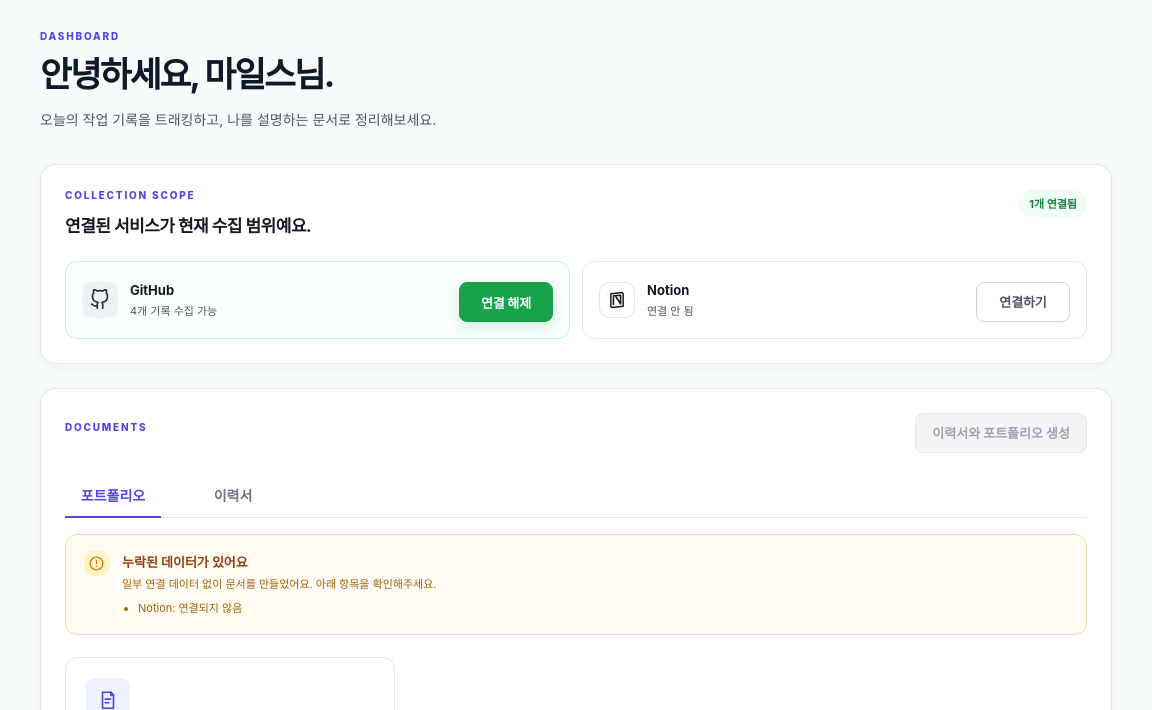
Test case: DashboardPage › 현재 탭이 비어 있어도 다른 유형이 있으면 그 탭을 안내한다
Click the tab "이력서": [233, 495] box left=185, top=473, right=281, bottom=517
(page scrolled)
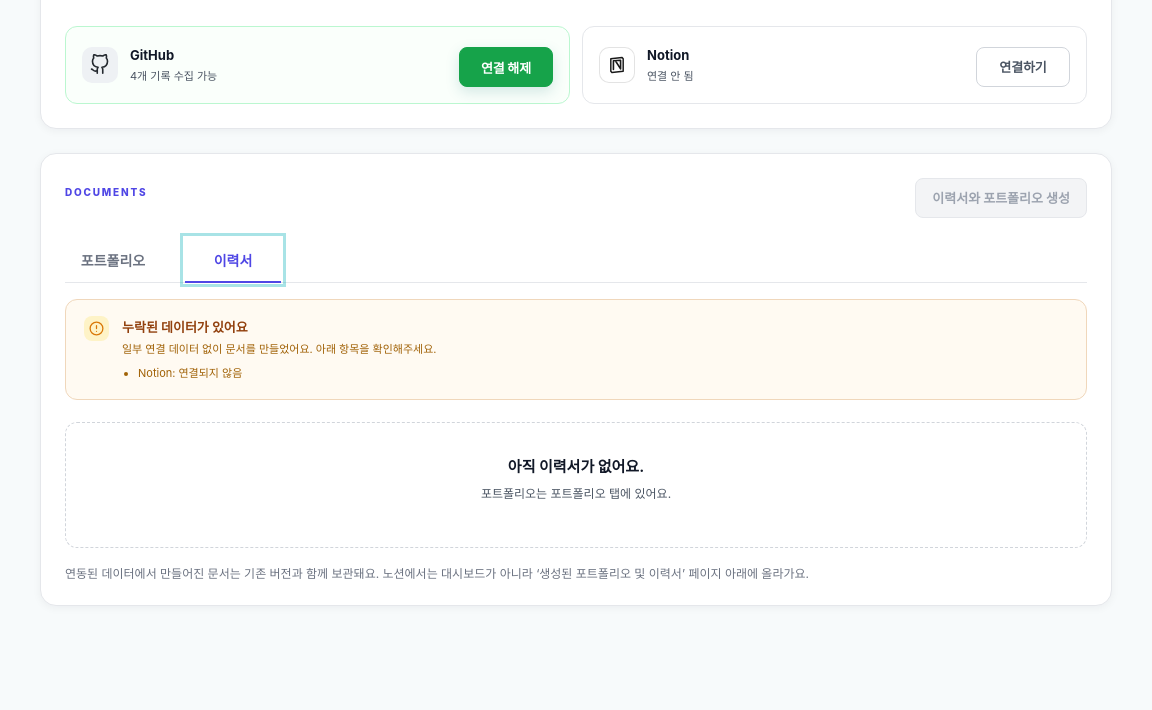
Expected: the text "생성된 포트폴리오 및 이력서" is shown, left=65, top=566, right=809, bottom=581
Result: the text "아직 이력서가 없어요." is shown at left=508, top=457, right=644, bottom=476
Result: the text "포트폴리오는 포트폴리오 탭에 있어요." is shown at left=481, top=486, right=671, bottom=501
